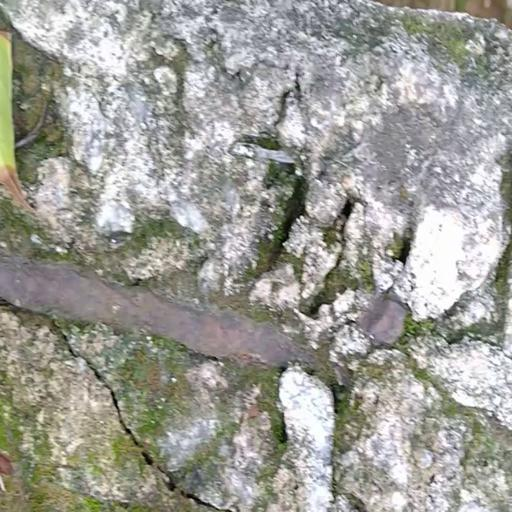spalling: (21, 3, 512, 512)
